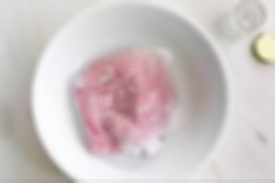wine: (78, 66, 176, 145)
